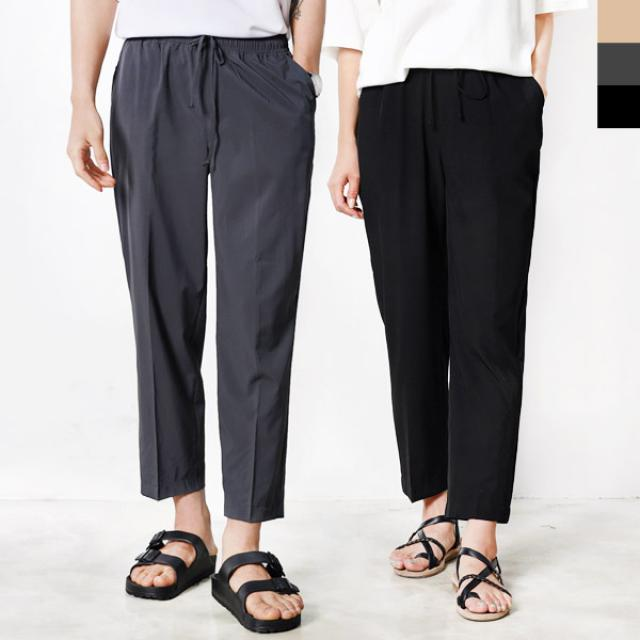pants: (98, 34, 321, 524), (347, 66, 545, 524)
